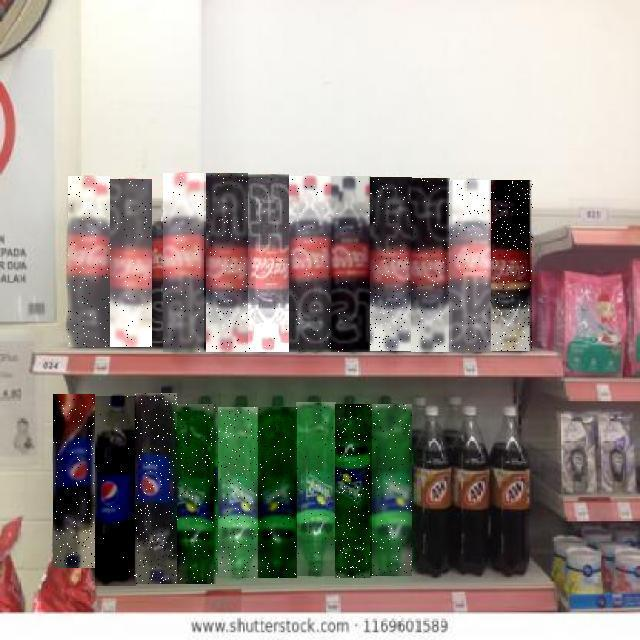Drinks: (135, 393, 177, 584), (95, 396, 136, 586), (164, 173, 206, 352), (206, 173, 248, 352), (329, 177, 371, 353), (289, 177, 331, 353), (371, 177, 413, 351), (53, 394, 95, 568), (248, 174, 289, 352), (451, 180, 493, 352), (178, 404, 218, 584), (492, 180, 534, 351), (68, 176, 110, 347), (110, 179, 152, 347), (218, 407, 259, 578), (412, 179, 452, 353), (296, 402, 336, 576), (373, 404, 412, 576), (258, 407, 297, 578), (336, 404, 374, 578)
